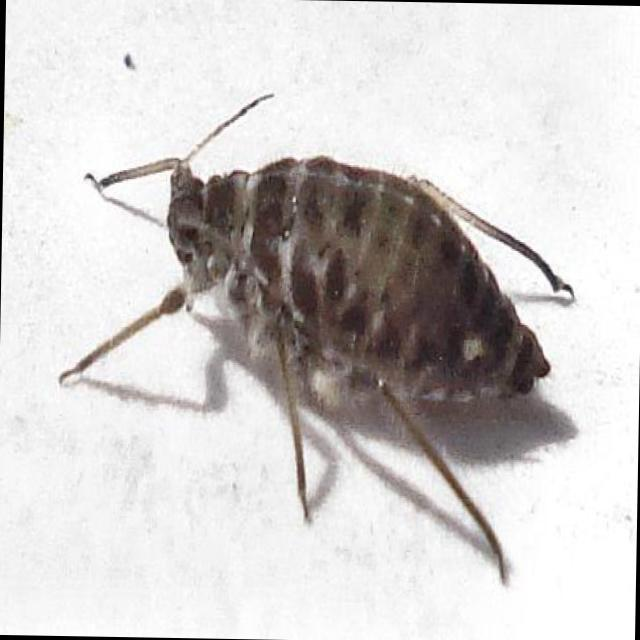Aphids: (49, 52, 586, 610)
